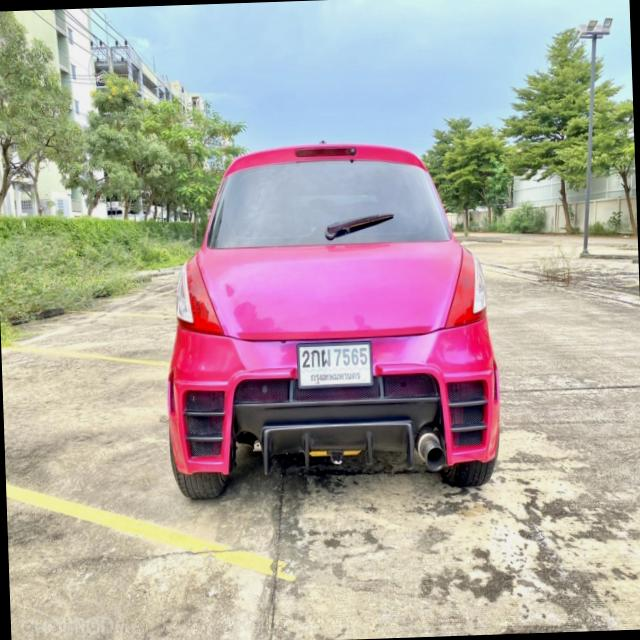license_plate: (294, 338, 374, 389)
